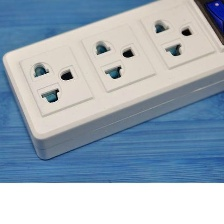three_eye_plug: (0, 0, 224, 163)
